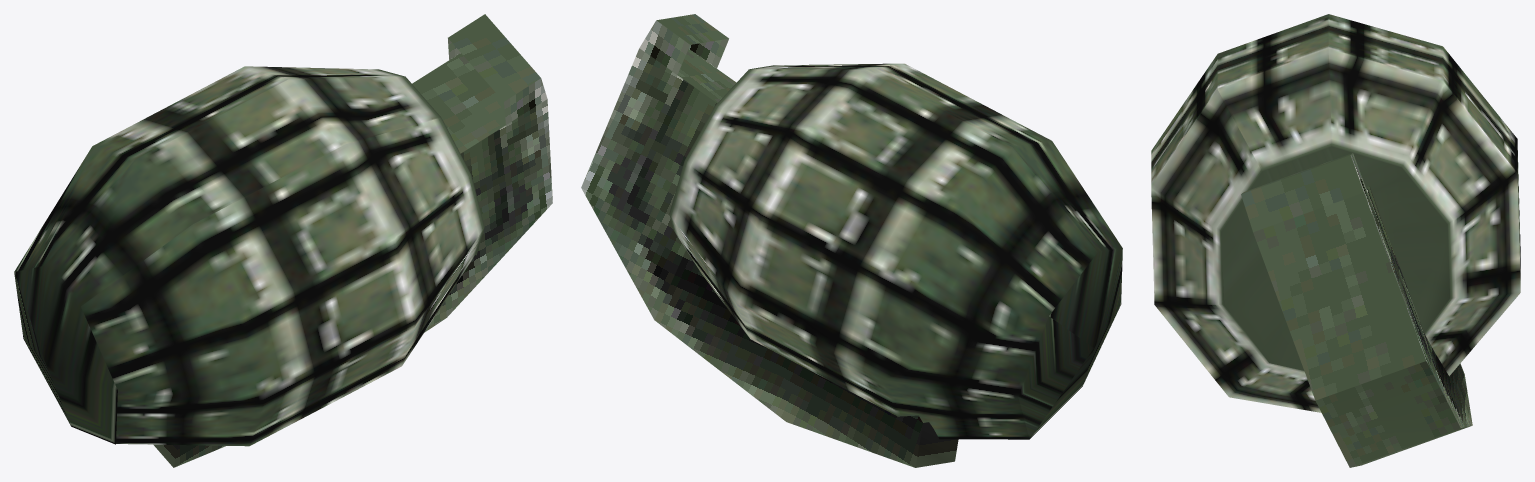
The model's file is p_grenade.glb.
3 renders of one model, left to right at view 1: azimuth 30°, elevation 25°; view 2: azimuth 150°, elevation 25°; view 3: azimuth 270°, elevation 25°, orthographic. The views are drawn at different scales.
Visible parts, largest first — view 1: p_grenade; view 2: p_grenade; view 3: p_grenade.
Part boxes in pixels (x1,y1,x2,y2): p_grenade: (14, 14, 552, 467); p_grenade: (581, 14, 1122, 467); p_grenade: (1151, 14, 1520, 467).
Bounding box in the file's own units: 4.5 × 3.26 × 2.54.
Materials: 2 (2 with a texture image).
